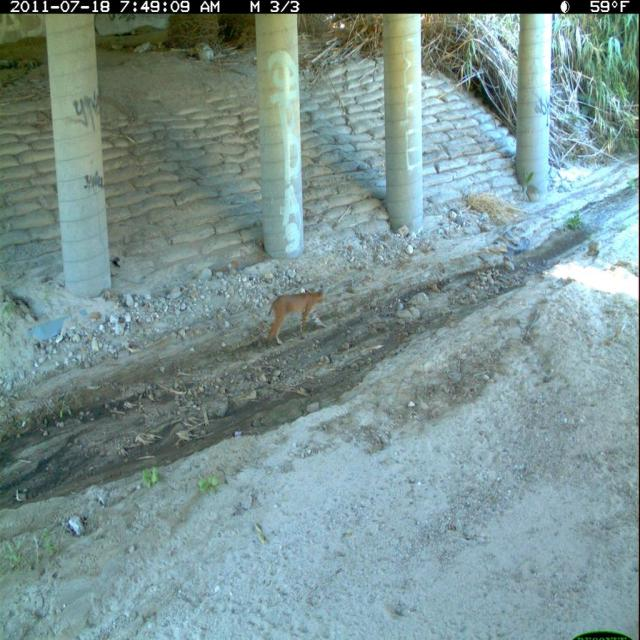bobcat: (265, 281, 332, 350)
